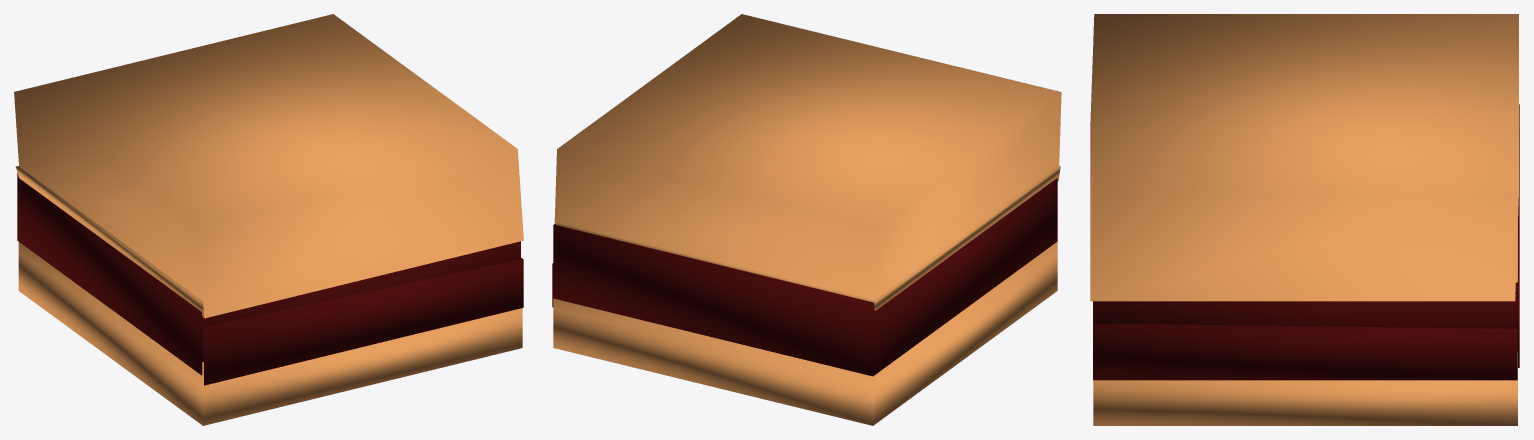
Rendered from Hamburger_02.glb.
3 renders of one model, left to right at view 1: azimuth 30°, elevation 25°; view 2: azimuth 150°, elevation 25°; view 3: azimuth 270°, elevation 25°, orthographic. The views are drawn at different scales.
Visible parts, largest first — view 1: Cube.003, Cube.001, Cube, Cube.002; view 2: Cube.003, Cube.002, Cube.001; view 3: Cube.003, Cube, Cube.001, Cube.002.
Part boxes in pixels (x1,y1,x2,y2): Cube.003: (14, 14, 523, 318); Cube.001: (18, 242, 522, 425); Cube: (203, 258, 523, 385); Cube.002: (17, 172, 520, 375); Cube.003: (554, 14, 1061, 310); Cube.002: (553, 178, 1057, 376); Cube.001: (553, 241, 1057, 425); Cube.003: (1090, 14, 1518, 301); Cube: (1093, 301, 1517, 380); Cube.001: (1093, 353, 1517, 425); Cube.002: (1094, 104, 1519, 367).
Size of the model in its own units: 10.16 by 5.98 by 10.1.
